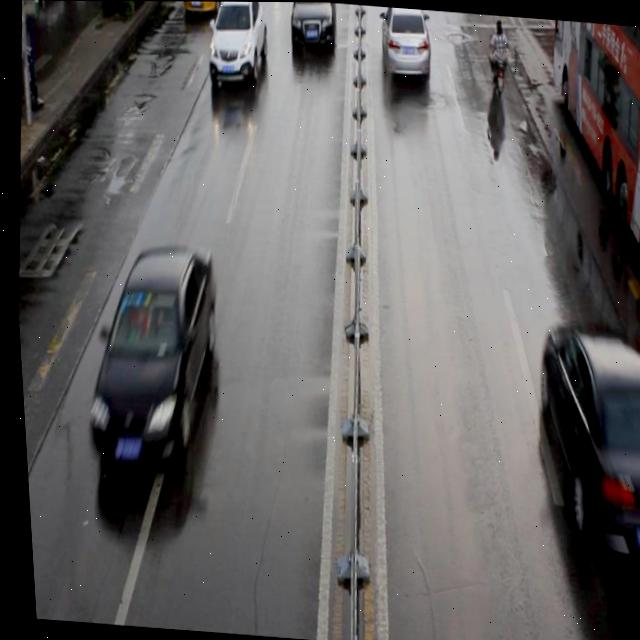car: (71, 233, 224, 474), (515, 320, 640, 586), (203, 1, 270, 87), (374, 6, 433, 79), (284, 2, 337, 52), (182, 1, 240, 14)
van: (534, 18, 640, 259)
